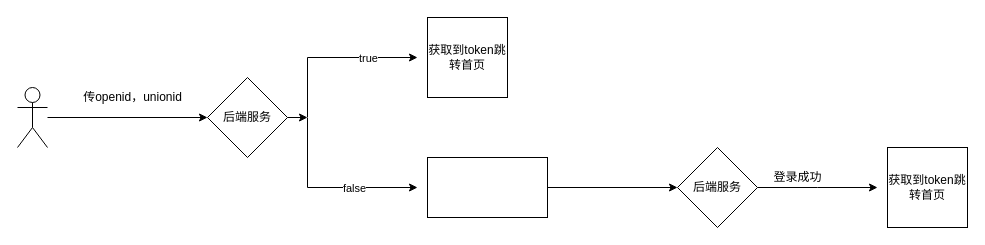
Image size: 985x245. Some labels were removed from this diagram. The centre of each missing label's shape, as x and y in pixels:
"Actor" belongs at point 32,117.
"提示绑定手机号" belongs at point 487,187.
